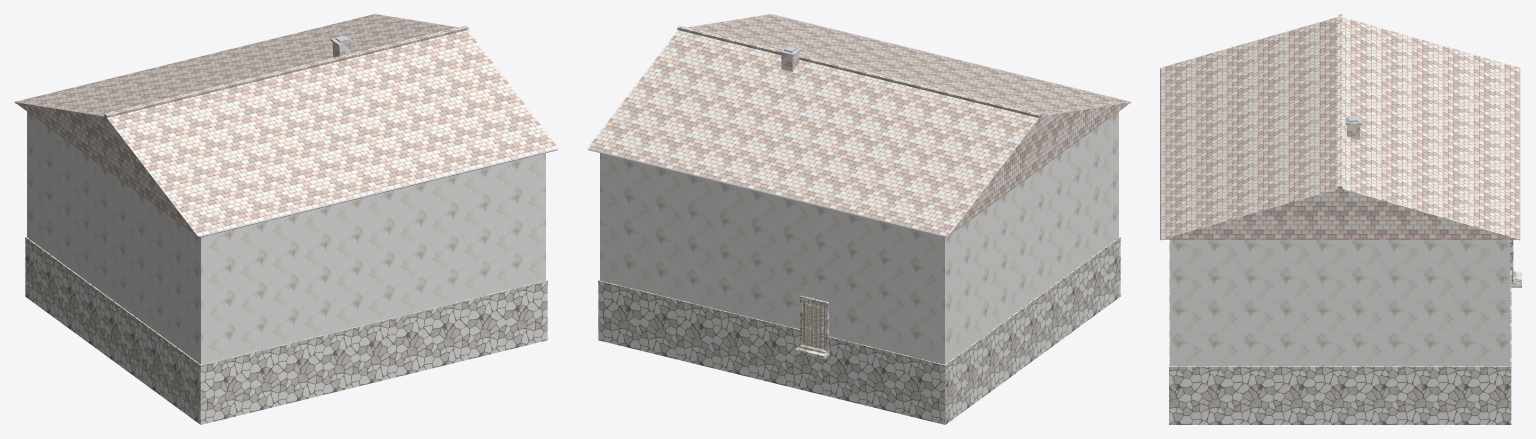
The picture shows the model from 3 angles, left to right: view 1: azimuth 30°, elevation 25°; view 2: azimuth 150°, elevation 25°; view 3: azimuth 270°, elevation 25°; orthographic projection. The views are drawn at different scales.
Parts seen in each view (by area): view 1: b1084716814; view 2: b1084716814; view 3: b1084716814.
Boxes of the visible parts, box(x1,y1,x2,y2) form: b1084716814: box(14, 14, 558, 424); b1084716814: box(587, 14, 1131, 424); b1084716814: box(1160, 14, 1521, 424).
Bounding box in the file's own units: 15.88 × 10.89 × 14.08.
14 materials, 14 textured.
